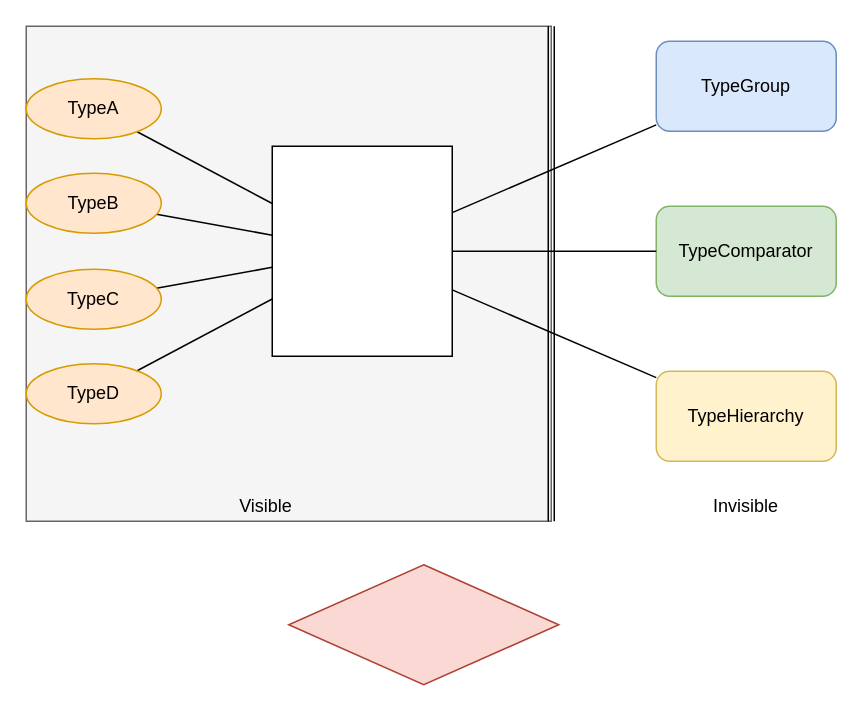
Image size: 863x711. Some labels were removed from this diagram. Each missing label, with the centre of its shape:
"Centralized Error Handler" belongs at (x=423, y=624).
"TypeSystem" belongs at (x=361, y=250).
